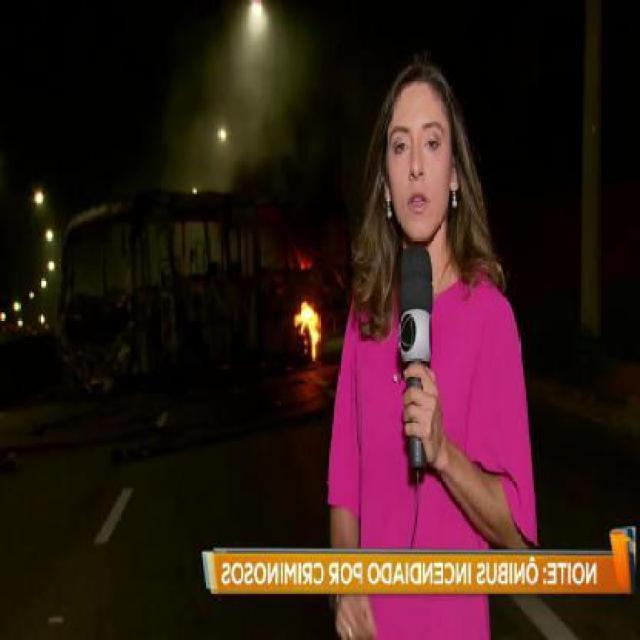Fire: (292, 299, 323, 361), (296, 254, 314, 271)
